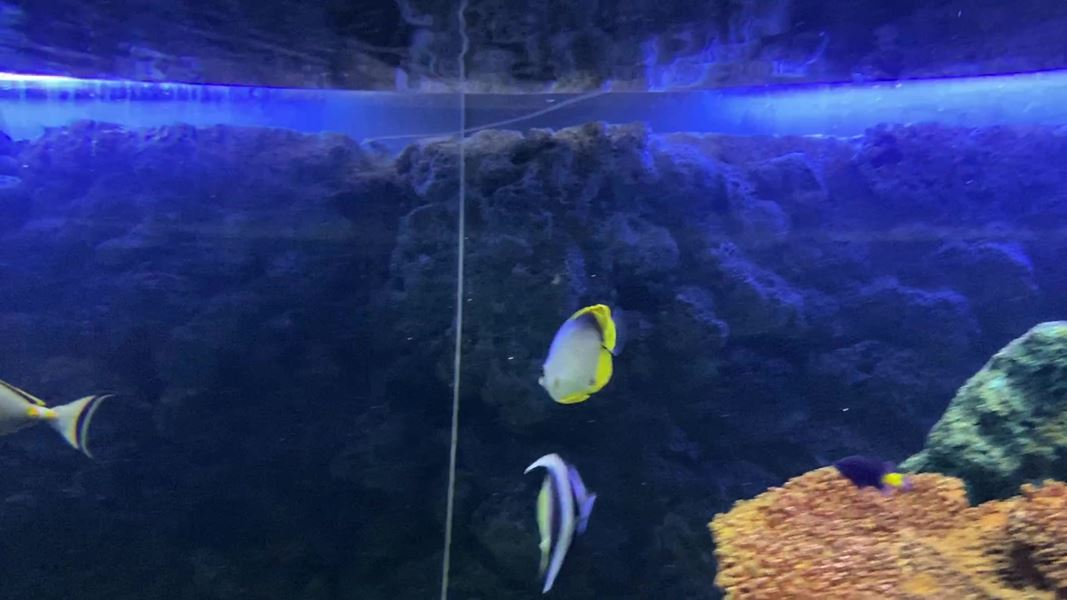Black-backed butterflyfish: (531, 296, 637, 412)
